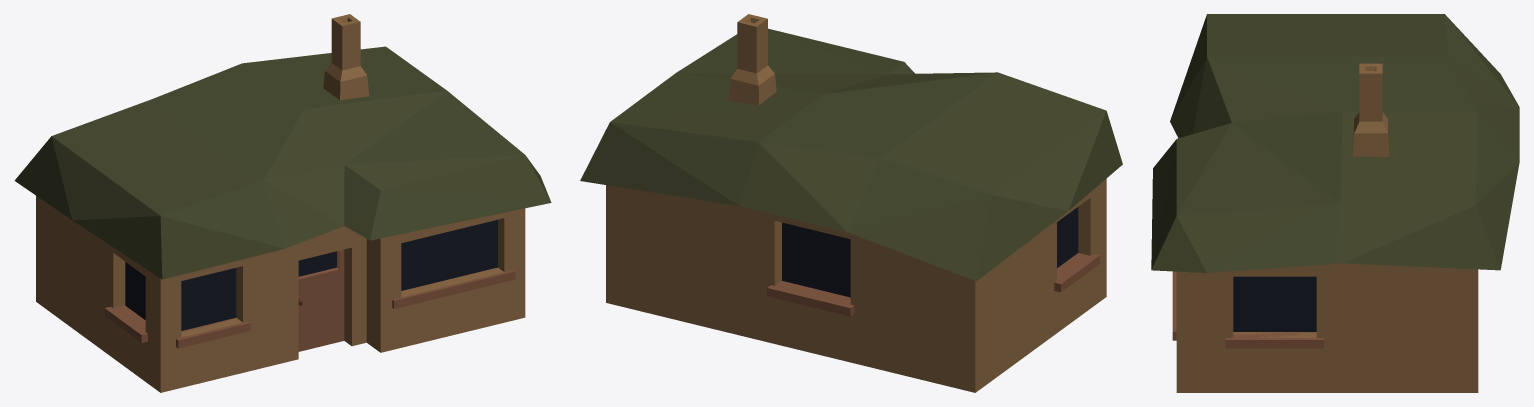
File: LPWarPack_Building2.fbx
3 renders of one model, left to right at view 1: azimuth 30°, elevation 25°; view 2: azimuth 150°, elevation 25°; view 3: azimuth 270°, elevation 25°, orthographic. The views are drawn at different scales.
Visible parts, largest first — view 1: Building2; view 2: Building2; view 3: Building2.
Boxes of the visible parts, left/top/right/bottom form: Building2: left=14, top=14, right=551, bottom=392; Building2: left=580, top=14, right=1122, bottom=392; Building2: left=1151, top=14, right=1519, bottom=392.
Bounding box in the file's own units: 641 × 383 × 463.
